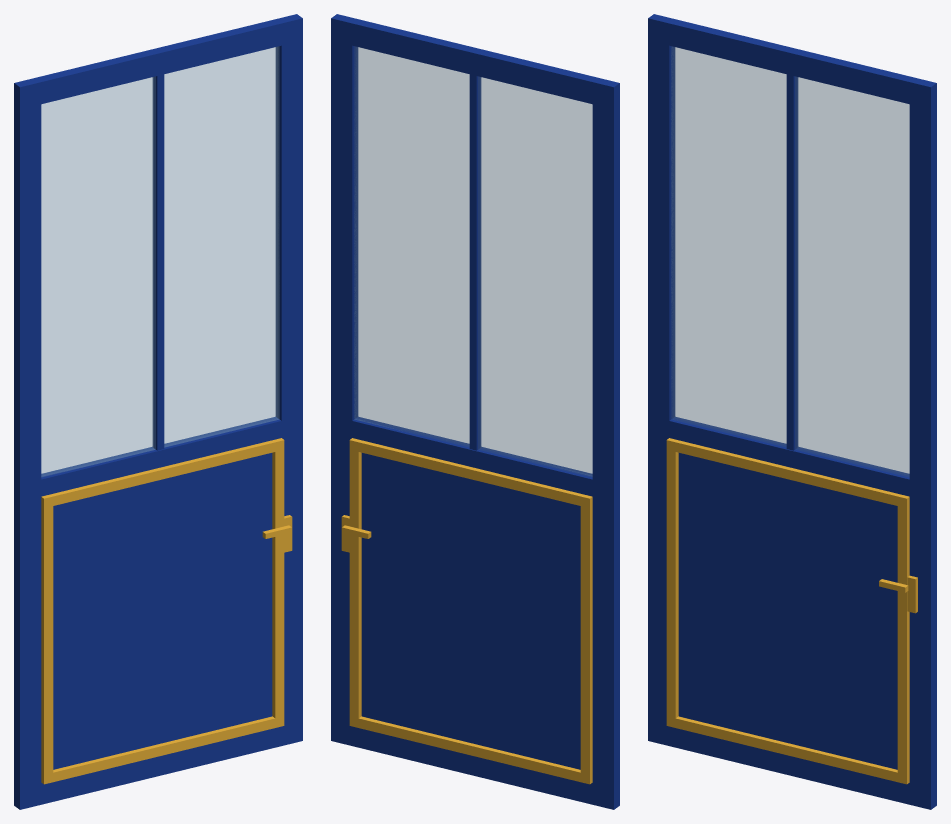
File: SM_Door_academy_140x340.fbx
3 views of the same model, side by side, from view 1: azimuth 30°, elevation 25°; view 2: azimuth 150°, elevation 25°; view 3: azimuth 330°, elevation 25° (orthographic).
Visible parts, largest first — view 1: SM_Door_academy_140x340; view 2: SM_Door_academy_140x340; view 3: SM_Door_academy_140x340.
Part boxes in pixels (x1,y1,x2,y2): SM_Door_academy_140x340: (14,14,302,809); SM_Door_academy_140x340: (331,14,619,809); SM_Door_academy_140x340: (648,14,936,809).
Size of the model in its own units: 1.39 by 3.39 by 0.175.
